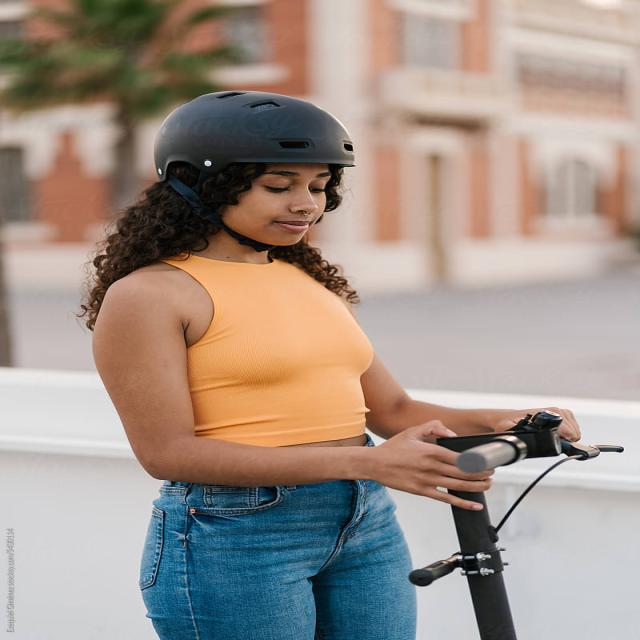helmet: (80, 36, 630, 640)
